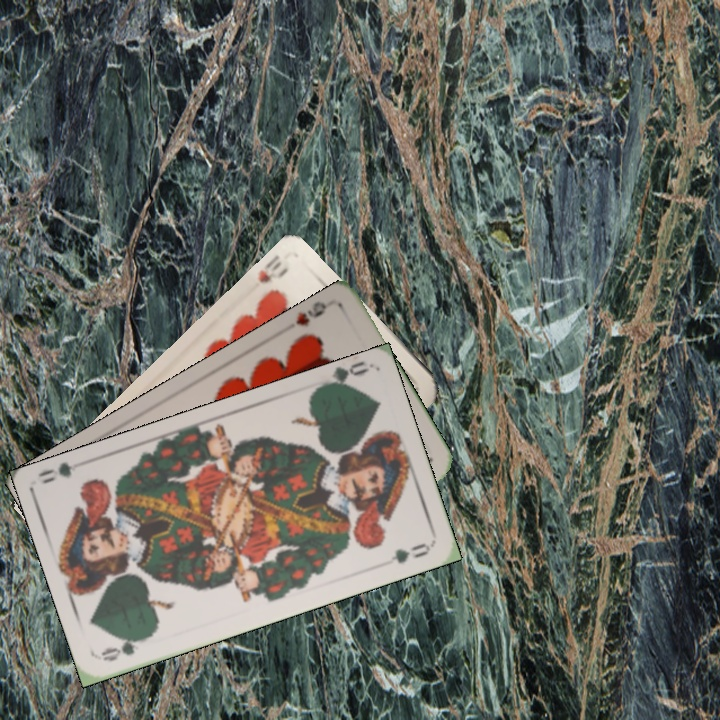GO: (97, 631, 154, 664), (314, 359, 370, 391)
H10: (254, 250, 292, 286)
H9: (291, 298, 330, 330)
